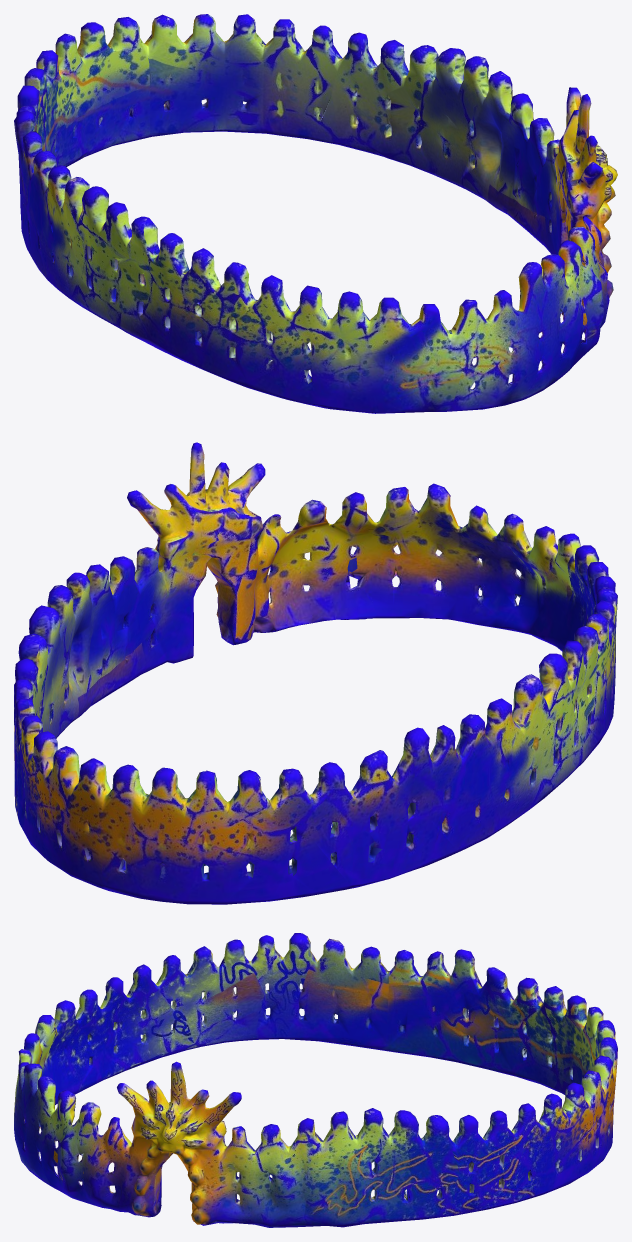
The model's file is shr-fence.glb.
The picture shows the model from 3 angles, top to bottom: view 1: azimuth 30°, elevation 25°; view 2: azimuth 150°, elevation 25°; view 3: azimuth 270°, elevation 25°; orthographic projection. The views are drawn at different scales.
Visible parts, largest first — view 1: geometry_0; view 2: geometry_0; view 3: geometry_0.
Boxes of the visible parts, x1,y1,x2,y2 form: geometry_0: [14, 14, 617, 413]; geometry_0: [14, 442, 617, 904]; geometry_0: [14, 933, 617, 1227].
Size of the model in its own units: 0.7194 by 0.2984 by 1.
1 material, 1 textured.
